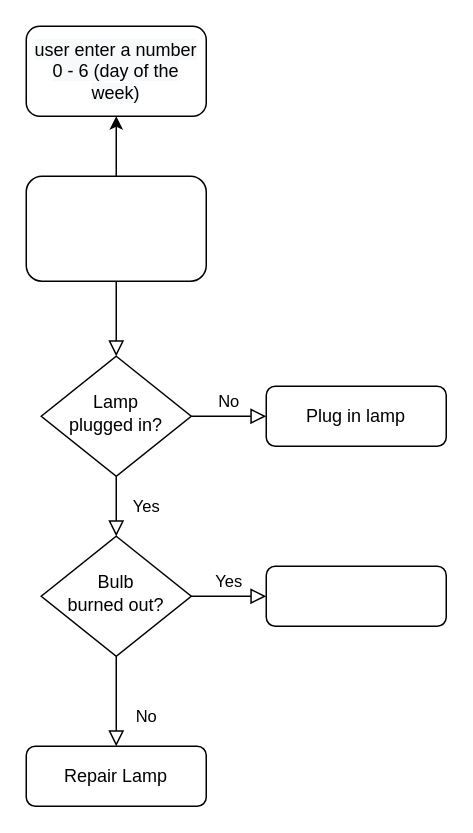
The diagram is 473 pixels wide and 833 high, and some of its shapes have lost their labels. Here are the shapes that lost their labels. From the top down, the centre of each, then its label:
At [115,228]: "user enter another number to indicate how many days after the previous day".
At [355,595]: "Replace Bulb".
